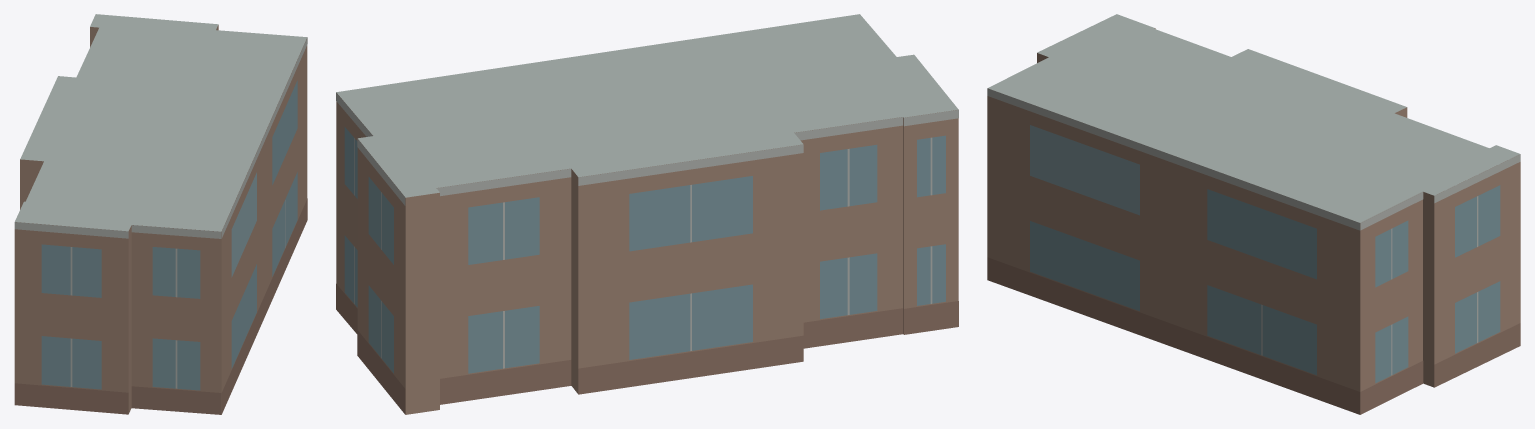
File: survey-upis-32810877.glb
3 renders of one model, left to right at view 1: azimuth 30°, elevation 25°; view 2: azimuth 150°, elevation 25°; view 3: azimuth 270°, elevation 25°, orthographic. The views are drawn at different scales.
Parts seen in each view (by area): view 1: survey-upis-32810877.tmp; view 2: survey-upis-32810877.tmp; view 3: survey-upis-32810877.tmp.
Part boxes in pixels (<box>): survey-upis-32810877.tmp: <box>14,14,307,414</box>; survey-upis-32810877.tmp: <box>336,14,958,414</box>; survey-upis-32810877.tmp: <box>987,14,1520,414</box>.
Size of the model in its own units: 14.26 by 6.1 by 15.37.
